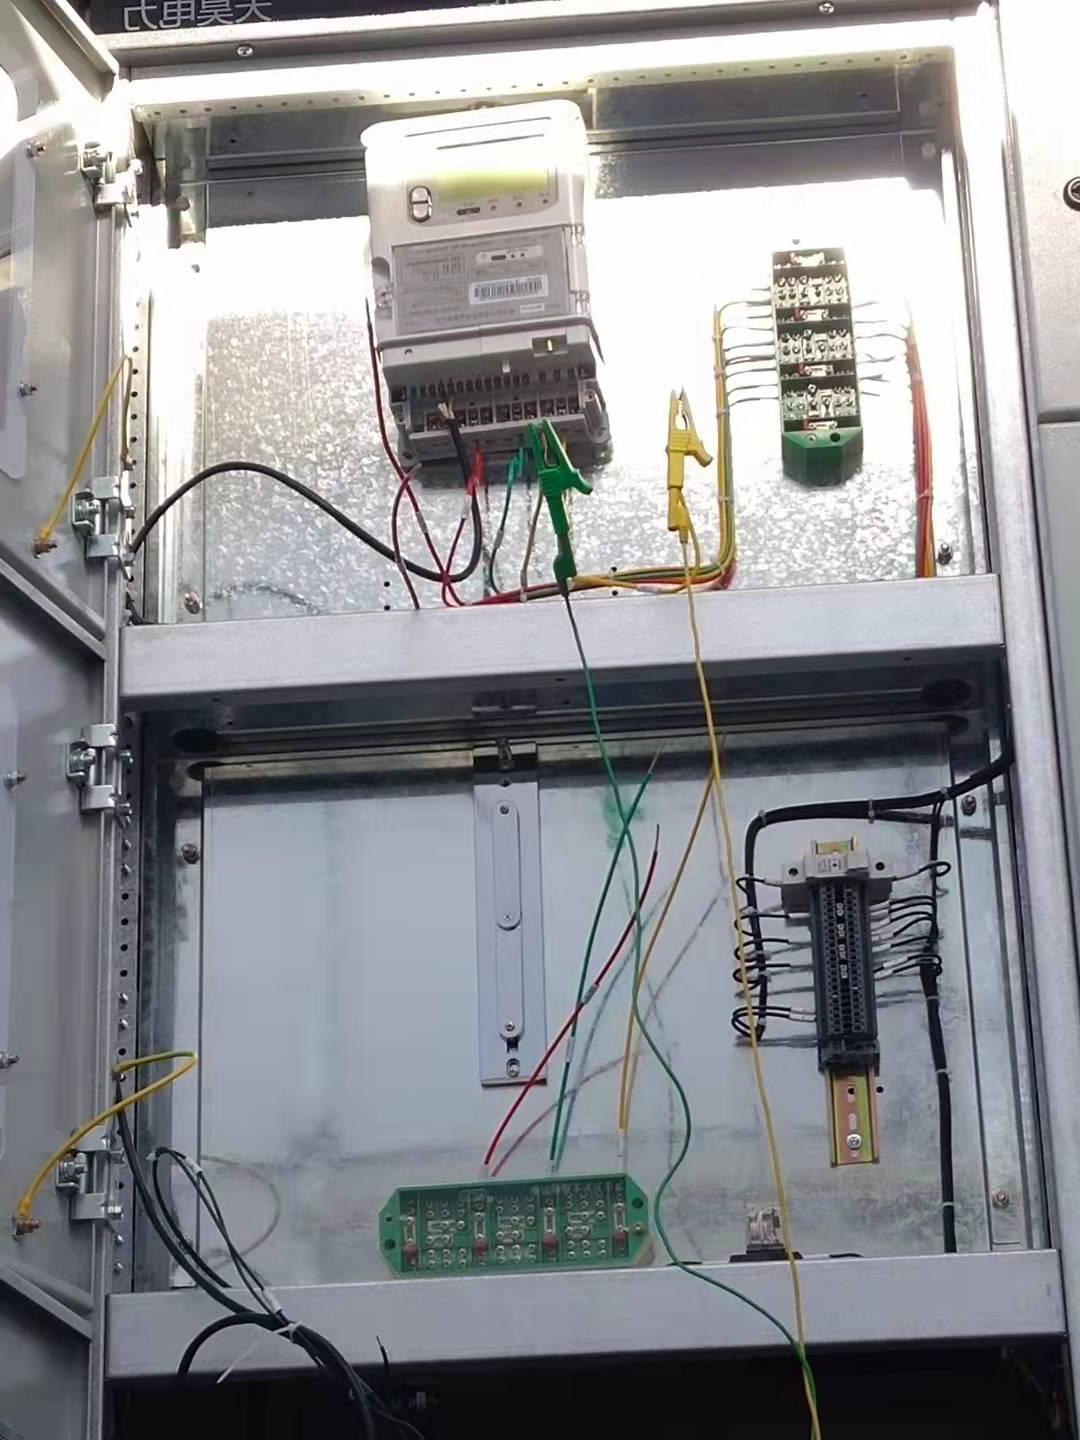digital: (363, 105, 585, 363)
